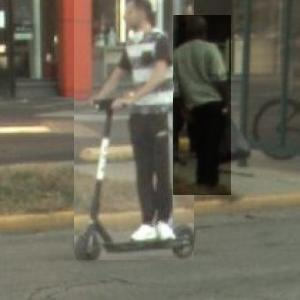with scooter: (74, 0, 194, 260)
without scooter: (174, 16, 232, 196)
